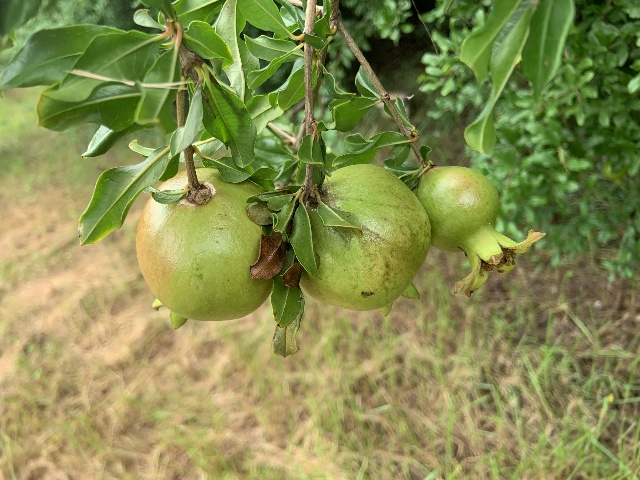mid-growth: (135, 167, 274, 330), (300, 164, 432, 315), (416, 165, 546, 297)
